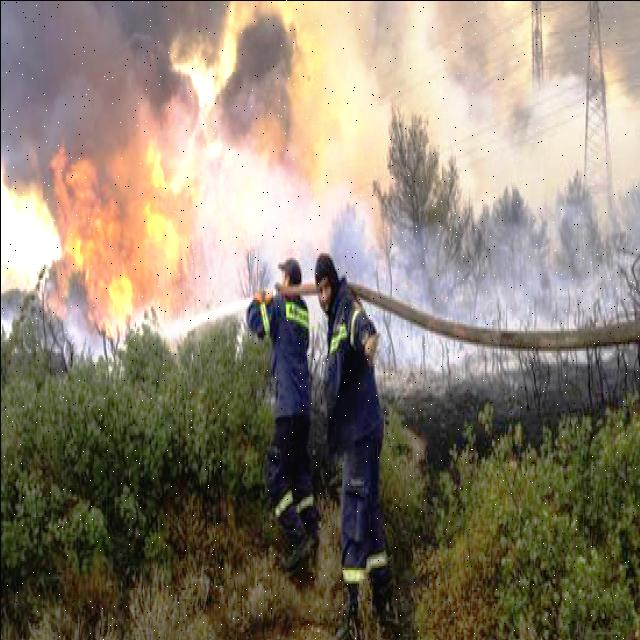api: (62, 153, 194, 333)
asap: (6, 1, 305, 143), (371, 219, 631, 331), (322, 6, 487, 120), (488, 82, 640, 202), (204, 165, 354, 255), (1, 155, 51, 276)
